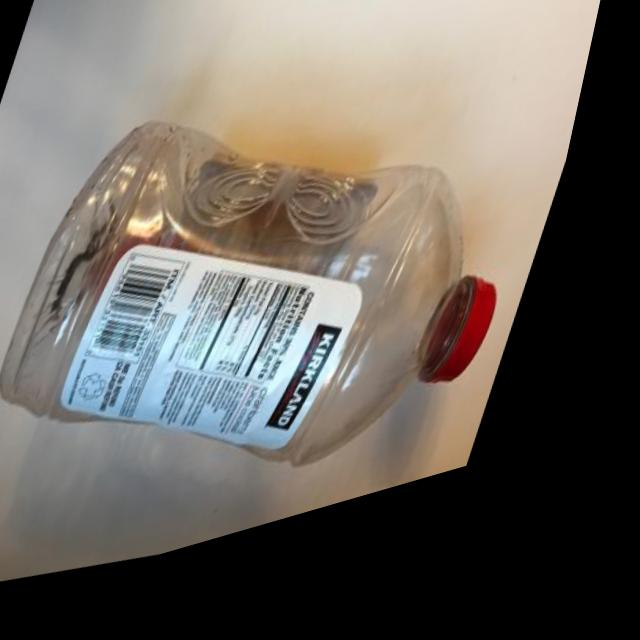plastic: (0, 0, 616, 635)
